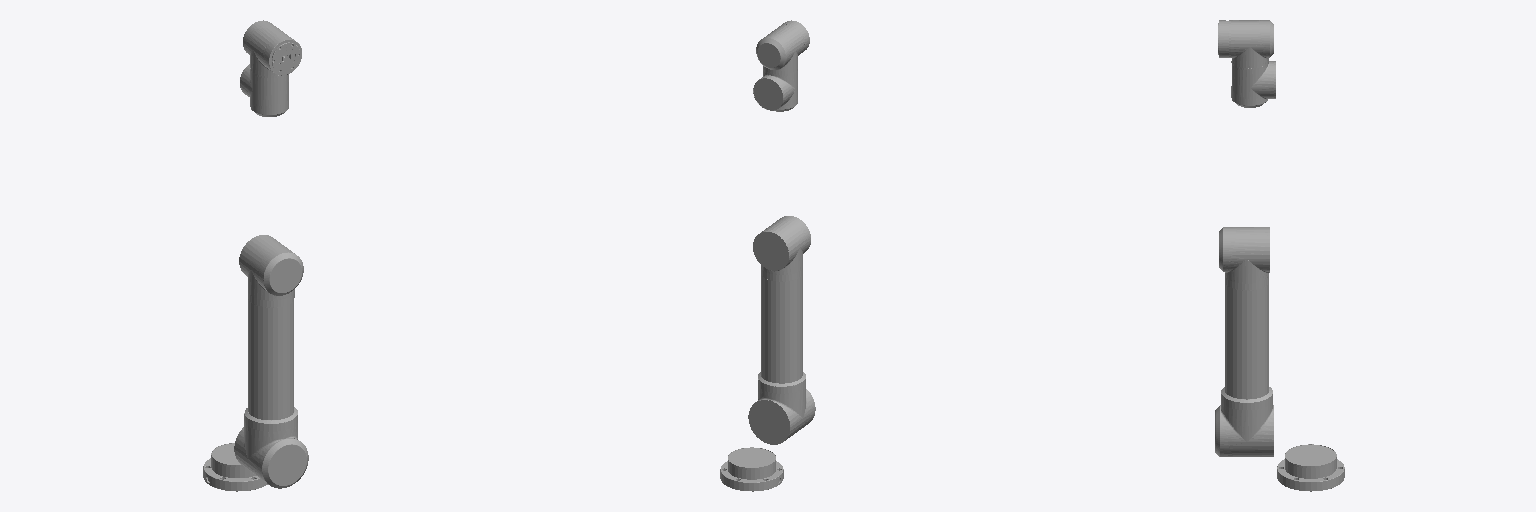
URDF robot description (utra6_1000):
<?xml version="1.0" encoding="utf-8"?>
<!-- =================================================================================== -->
<!-- |    This document was autogenerated by xacro from ../urdf/utra6_1000_robot.urdf.xacro | -->
<!-- |    EDITING THIS FILE BY HAND IS NOT RECOMMENDED                                 | -->
<!-- =================================================================================== -->
<robot name="utra6_1000">
  <!--
    Author: [author] <[email redacted]> <[email redacted]>
    Contributers:
  -->
  <link name="world"/>
  <joint name="world_joint" type="fixed">
    <parent link="world"/>
    <child link="base_link"/>
    <origin rpy="0 0 0" xyz="0 0 0"/>
  </joint>
  <material name="Black">
    <color rgba="0.0 0.0 0.0 1.0"/>
  </material>
  <material name="Red">
    <color rgba="0.8 0.0 0.0 1.0"/>
  </material>
  <material name="White">
    <color rgba="1.0 1.0 1.0 1.0"/>
  </material>
  <material name="Silver">
    <color rgba="0.7 0.7 0.7 1.0"/>
  </material>
  <link name="base_link">
    <inertial>
      <origin rpy="0 0 0" xyz="0 0 0"/>
      <mass value="1e-05"/>
      <inertia ixx="0" ixy="0" ixz="0" iyy="0" iyz="0" izz="0"/>
    </inertial>
    <visual>
      <origin rpy="0 0 0" xyz="0 0 0"/>
      <geometry>
        <mesh filename="package://arm_description/meshes/utra6_1000/visual/base.STL"/>
      </geometry>
      <material name="Silver"/>
    </visual>
    <collision>
      <origin rpy="0 0 0" xyz="0 0 0"/>
      <geometry>
        <mesh filename="package://arm_description/meshes/utra6_1000/visual/base.STL"/>
      </geometry>
    </collision>
  </link>
  <joint name="joint1" type="revolute">
    <origin rpy="0 0 0" xyz="0 0 0"/>
    <parent link="base_link"/>
    <child link="link_1"/>
    <axis xyz="0 0 1"/>
    <limit effort="0" lower="-6.28318530718" upper="6.28318530718" velocity="3.14"/>
    <dynamics damping="0" friction="0"/>
  </joint>
  <link name="link_1">
    <inertial>
      <origin rpy="0 0 0" xyz="0 0 0"/>
      <mass value="1e-05"/>
      <inertia ixx="0" ixy="0" ixz="0" iyy="0" iyz="0" izz="0"/>
    </inertial>
    <visual>
      <origin rpy="0 0 0" xyz="0 0 0"/>
      <geometry>
        <mesh filename="package://arm_description/meshes/utra6_1000/visual/link1.STL"/>
      </geometry>
      <material name="Silver"/>
    </visual>
    <collision>
      <origin rpy="0 0 0" xyz="0 0 0"/>
      <geometry>
        <mesh filename="package://arm_description/meshes/utra6_1000/visual/link1.STL"/>
      </geometry>
    </collision>
  </link>
  <joint name="joint2" type="revolute">
    <origin rpy="0 0 0" xyz="0 0 0.1175"/>
    <parent link="link_1"/>
    <child link="link_2"/>
    <axis xyz="0 -1 0"/>
    <limit effort="0" lower="-6.28318530718" upper="6.28318530718" velocity="3.14"/>
    <dynamics damping="0" friction="0"/>
  </joint>
  <link name="link_2">
    <inertial>
      <origin rpy="0 0 0" xyz="0 0 0"/>
      <mass value="1e-05"/>
      <inertia ixx="0" ixy="0" ixz="0" iyy="0" iyz="0" izz="0"/>
    </inertial>
    <visual>
      <origin rpy="0 0 0" xyz="0 0 0"/>
      <geometry>
        <mesh filename="package://arm_description/meshes/utra6_1000/visual/link2.STL"/>
      </geometry>
      <material name="Silver"/>
    </visual>
    <collision>
      <origin rpy="0 0 0" xyz="0 0 0"/>
      <geometry>
        <mesh filename="package://arm_description/meshes/utra6_1000/visual/link2.STL"/>
      </geometry>
    </collision>
  </link>
  <joint name="joint3" type="revolute">
    <origin rpy="0 0 0" xyz="0 0 0.463"/>
    <parent link="link_2"/>
    <child link="link_3"/>
    <axis xyz="0 1 0"/>
    <limit effort="0" lower="-6.28318530718" upper="6.28318530718" velocity="3.14"/>
    <dynamics damping="0" friction="0"/>
  </joint>
  <link name="link_3">
    <inertial>
      <origin rpy="0 0 0" xyz="0 0 0"/>
      <mass value="1e-05"/>
      <inertia ixx="0" ixy="0" ixz="0" iyy="0" iyz="0" izz="0"/>
    </inertial>
    <visual>
      <origin rpy="0 0 0" xyz="0 0 0"/>
      <geometry>
        <mesh filename="package://arm_description/meshes/utra6_1000/visual/link3.STL"/>
      </geometry>
      <material name="Silver"/>
    </visual>
    <collision>
      <origin rpy="0 0 0" xyz="0 0 0"/>
      <geometry>
        <mesh filename="package://arm_description/meshes/utra6_1000/visual/link3.STL"/>
      </geometry>
    </collision>
  </link>
  <joint name="joint4" type="revolute">
    <origin rpy="0 0 0" xyz="0 0 0.4325"/>
    <parent link="link_3"/>
    <child link="link_4"/>
    <axis xyz="0 -1 0"/>
    <limit effort="0" lower="-6.28318530718" upper="6.28318530718" velocity="3.14"/>
    <dynamics damping="0" friction="0"/>
  </joint>
  <link name="link_4">
    <inertial>
      <origin rpy="0 0 0" xyz="0 0 0"/>
      <mass value="1e-05"/>
      <inertia ixx="0" ixy="0" ixz="0" iyy="0" iyz="0" izz="0"/>
    </inertial>
    <visual>
      <origin rpy="0 0 0" xyz="0 0 0"/>
      <geometry>
        <mesh filename="package://arm_description/meshes/utra6_1000/visual/link4.STL"/>
      </geometry>
      <material name="Silver"/>
    </visual>
    <collision>
      <origin rpy="0 0 0" xyz="0 0 0"/>
      <geometry>
        <mesh filename="package://arm_description/meshes/utra6_1000/visual/link4.STL"/>
      </geometry>
    </collision>
  </link>
  <joint name="joint5" type="revolute">
    <origin rpy="0 0 0" xyz="0 -0.1405 0.1045"/>
    <parent link="link_4"/>
    <child link="link_5"/>
    <axis xyz="0 0 1"/>
    <limit effort="0" lower="-6.28318530718" upper="6.28318530718" velocity="3.14"/>
    <dynamics damping="0" friction="0"/>
  </joint>
  <link name="link_5">
    <inertial>
      <mass value="1e-05"/>
      <origin rpy="0 0 0" xyz="0 0 0"/>
      <inertia ixx="0" ixy="0" ixz="0" iyy="0" iyz="0" izz="0"/>
    </inertial>
    <visual>
      <origin rpy="0 0 0" xyz="0 0 0"/>
      <geometry>
        <mesh filename="package://arm_description/meshes/utra6_1000/visual/link5.STL"/>
      </geometry>
      <material name="Silver"/>
    </visual>
    <collision>
      <origin rpy="0 0 0" xyz="0 0 0"/>
      <geometry>
        <mesh filename="package://arm_description/meshes/utra6_1000/visual/link5.STL"/>
      </geometry>
    </collision>
  </link>
  <joint name="joint6" type="revolute">
    <origin rpy="1.57079632679 0 0" xyz="0 -0.0745 0"/>
    <parent link="link_5"/>
    <child link="link_6"/>
    <axis xyz="0 0 1"/>
    <limit effort="0" lower="-6.28318530718" upper="6.28318530718" velocity="3.14"/>
    <dynamics damping="0" friction="0"/>
  </joint>
  <link name="link_6">
    <inertial>
      <mass value="1e-05"/>
      <origin rpy="0 0 0" xyz="0 0 0"/>
      <inertia ixx="0" ixy="0" ixz="0" iyy="0" iyz="0" izz="0"/>
    </inertial>
    <visual>
      <origin rpy="0 0 0" xyz="0 0 0"/>
      <geometry>
        <mesh filename="package://arm_description/meshes/utra6_1000/visual/link6.STL"/>
      </geometry>
      <material name="Silver"/>
    </visual>
    <collision>
      <origin rpy="0 0 0" xyz="0 0 0"/>
      <geometry>
        <mesh filename="package://arm_description/meshes/utra6_1000/visual/link6.STL"/>
      </geometry>
    </collision>
  </link>
  <transmission name="tran1">
    <type>transmission_interface/SimpleTransmission</type>
    <joint name="joint1">
      <hardwareInterface>hardware_interface/PositionJointInterface</hardwareInterface>
    </joint>
    <actuator name="motor1">
      <hardwareInterface>hardware_interface/PositionJointInterface</hardwareInterface>
      <mechanicalReduction>1</mechanicalReduction>
    </actuator>
  </transmission>
  <transmission name="tran1">
    <type>transmission_interface/SimpleTransmission</type>
    <joint name="joint2">
      <hardwareInterface>hardware_interface/PositionJointInterface</hardwareInterface>
    </joint>
    <actuator name="motor1">
      <hardwareInterface>hardware_interface/PositionJointInterface</hardwareInterface>
      <mechanicalReduction>1</mechanicalReduction>
    </actuator>
  </transmission>
  <transmission name="tran1">
    <type>transmission_interface/SimpleTransmission</type>
    <joint name="joint3">
      <hardwareInterface>hardware_interface/PositionJointInterface</hardwareInterface>
    </joint>
    <actuator name="motor1">
      <hardwareInterface>hardware_interface/PositionJointInterface</hardwareInterface>
      <mechanicalReduction>1</mechanicalReduction>
    </actuator>
  </transmission>
  <transmission name="tran1">
    <type>transmission_interface/SimpleTransmission</type>
    <joint name="joint4">
      <hardwareInterface>hardware_interface/PositionJointInterface</hardwareInterface>
    </joint>
    <actuator name="motor1">
      <hardwareInterface>hardware_interface/PositionJointInterface</hardwareInterface>
      <mechanicalReduction>1</mechanicalReduction>
    </actuator>
  </transmission>
  <transmission name="tran1">
    <type>transmission_interface/SimpleTransmission</type>
    <joint name="joint5">
      <hardwareInterface>hardware_interface/PositionJointInterface</hardwareInterface>
    </joint>
    <actuator name="motor1">
      <hardwareInterface>hardware_interface/PositionJointInterface</hardwareInterface>
      <mechanicalReduction>1</mechanicalReduction>
    </actuator>
  </transmission>
  <transmission name="tran1">
    <type>transmission_interface/SimpleTransmission</type>
    <joint name="joint6">
      <hardwareInterface>hardware_interface/PositionJointInterface</hardwareInterface>
    </joint>
    <actuator name="motor1">
      <hardwareInterface>hardware_interface/PositionJointInterface</hardwareInterface>
      <mechanicalReduction>1</mechanicalReduction>
    </actuator>
  </transmission>
  <gazebo>
    <plugin filename="libgazebo_ros_control.so" name="gazebo_ros_control">
      <robotNamespace>/utra6_1000</robotNamespace>
      <robotSimType>gazebo_ros_control/DefaultRobotHWSim</robotSimType>
      <legacyModeNS>true</legacyModeNS>
    </plugin>
  </gazebo>
</robot>

--- What the picture shows (computed from the rendered views, not written in the file) ---
Views: 3 orthographic renders of the robot side by side, from view 1: azimuth 30°, elevation 25°; view 2: azimuth 150°, elevation 25°; view 3: azimuth 270°, elevation 25°.
Model utra6_1000 with 8 links and 7 joints (6 revolute, 1 fixed), rooted at world, posed all joints at 0.
Visible links, largest first — view 1: link_2, base_link, link_4, link_5, link_6; view 2: link_2, base_link, link_5, link_4; view 3: link_2, base_link, link_5, link_4.
Link boxes in pixels (left/top/right/bottom): link_2: left=234, top=235, right=308, bottom=488; base_link: left=203, top=443, right=267, bottom=491; link_4: left=240, top=64, right=288, bottom=116; link_5: left=243, top=20, right=287, bottom=77; link_6: left=263, top=35, right=301, bottom=75; link_2: left=748, top=216, right=815, bottom=444; base_link: left=720, top=447, right=783, bottom=491; link_5: left=756, top=24, right=803, bottom=76; link_4: left=753, top=71, right=797, bottom=111; link_2: left=1215, top=227, right=1273, bottom=456; base_link: left=1277, top=444, right=1344, bottom=491; link_5: left=1231, top=20, right=1273, bottom=70; link_4: left=1231, top=61, right=1275, bottom=107.
Bounding box of the posed robot: 0.156 × 0.2983 × 1.16 m (x, y, z).
Meshes: 7 distinct files referenced, 5 mesh visuals loaded (5 binary STL); not drawn: 2 (reference not matched to a file when rendering).
